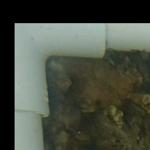dead: (15, 23, 148, 147)
